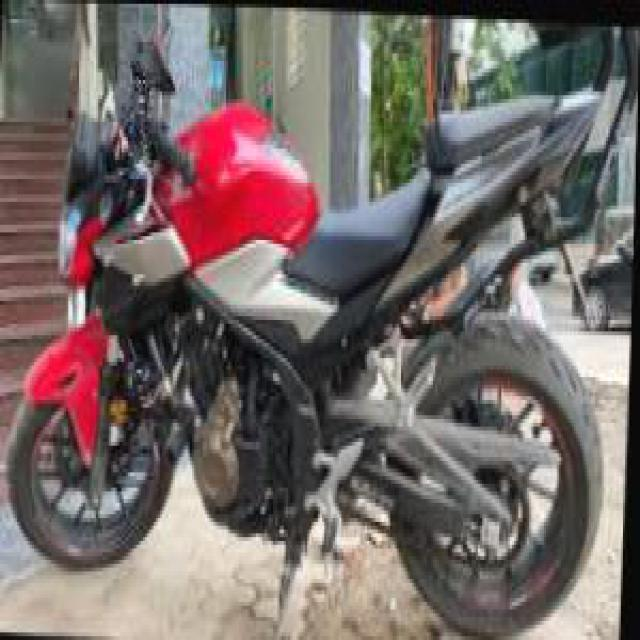CB500F: (2, 34, 623, 636)
